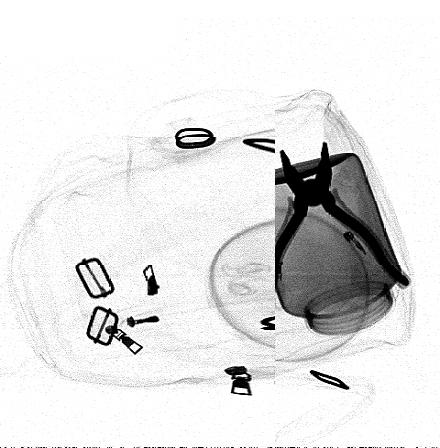Pliers: (270, 141, 413, 290)
